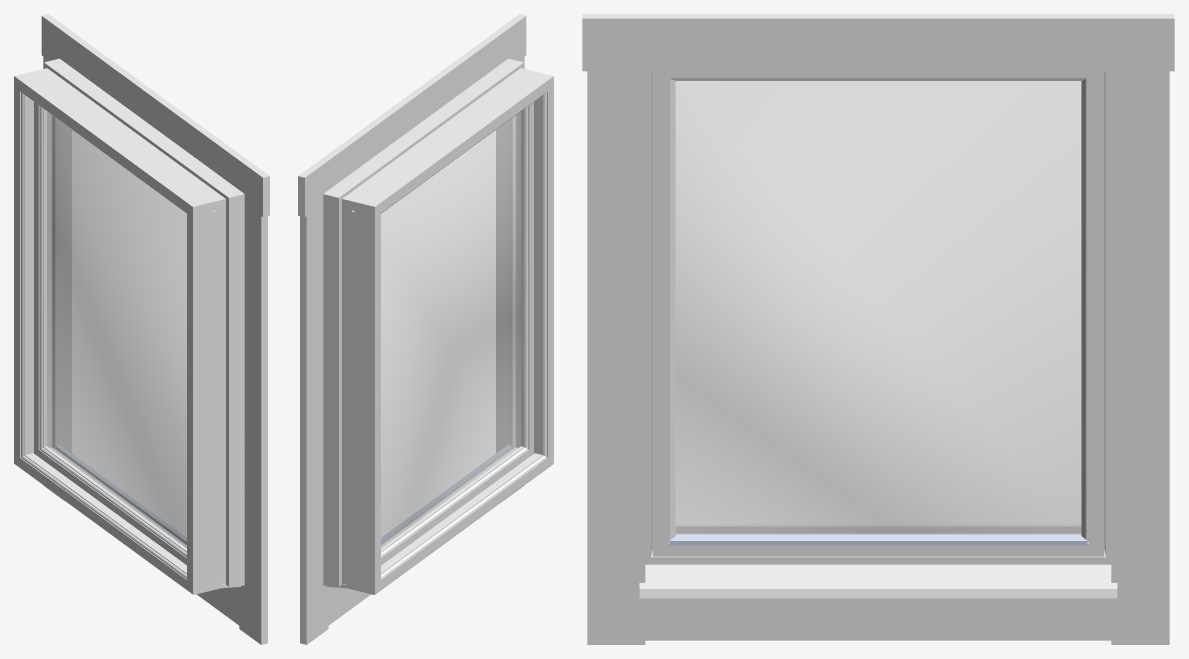
The picture shows the model from 3 angles, left to right: view 1: azimuth 30°, elevation 25°; view 2: azimuth 150°, elevation 25°; view 3: azimuth 270°, elevation 25°; orthographic projection. The views are drawn at different scales.
Parts seen in each view (by area): view 1: Glas polarfönster_WEB-1 - Part_clonedChild, Glas polarfönster_WEB-1 - Part, Karmdel stående_WEB-1 - Part, Fönsterfoder_WEB-2 - Part, Fönsterfoder_WEB-1 - Part, Karmdel Överliggare_WEB-1 - Part, Stående Fönsterbåge_WEB-2 - Part, Påsalning yttersida_WEB-5 - Part, Karmdel stående_WEB-2 - Part, Karmdel Nederdel_WEB-1 - Part, Påsalning yttersida_WEB-4 - Part, Fänsterbåge nederdel_WEB-1 - Part (+4 smaller); view 2: Glas polarfönster_WEB-1 - Part_clonedChild, Glas polarfönster_WEB-1 - Part, Karmdel stående_WEB-2 - Part, Fönsterfoder_WEB-3 - Part, Fönsterfoder_WEB-1 - Part, Karmdel Överliggare_WEB-1 - Part, Stående Fönsterbåge_WEB-1 - Part, Påsalning yttersida_WEB-6 - Part, Karmdel stående_WEB-1 - Part, Karmdel Nederdel_WEB-1 - Part, Påsalning yttersida_WEB-4 - Part, Fänsterbåge nederdel_WEB-1 - Part (+4 smaller); view 3: Glas polarfönster_WEB-2 - Part_clonedChild, Glas polarfönster_WEB-2 - Part, Fönsterfoder_WEB-1 - Part, Fönsterfoder_WEB-3 - Part, Fönsterfoder_WEB-2 - Part, Fönsterfoder_WEB-4 - Part, Fönsterbläck_WEB-1 - Part, Stående Fönsterbåge_WEB-2 - Part, Stående Fönsterbåge_WEB-1 - Part, Fänsterbåge nederdel_WEB-1 - Part, Dropplist fönster_WEB-1 - Part, Fänsterbåge överliggare_WEB-1 - Part (+3 smaller).
Boxes of the visible parts, left/top/right/bottom form: Glas polarfönster_WEB-1 - Part_clonedChild: left=47, top=112, right=186, bottom=547; Glas polarfönster_WEB-1 - Part: left=47, top=112, right=186, bottom=547; Karmdel stående_WEB-1 - Part: left=187, top=209, right=225, bottom=588; Fönsterfoder_WEB-2 - Part: left=239, top=204, right=267, bottom=644; Fönsterfoder_WEB-1 - Part: left=41, top=14, right=269, bottom=216; Karmdel Överliggare_WEB-1 - Part: left=14, top=68, right=225, bottom=216; Stående Fönsterbåge_WEB-2 - Part: left=34, top=102, right=57, bottom=456; Påsalning yttersida_WEB-5 - Part: left=223, top=190, right=244, bottom=586; Karmdel stående_WEB-2 - Part: left=14, top=86, right=33, bottom=462; Karmdel Nederdel_WEB-1 - Part: left=14, top=453, right=225, bottom=594; Påsalning yttersida_WEB-4 - Part: left=49, top=62, right=238, bottom=196; Fänsterbåge nederdel_WEB-1 - Part: left=38, top=446, right=186, bottom=564; Glas polarfönster_WEB-1 - Part_clonedChild: left=381, top=112, right=520, bottom=547; Glas polarfönster_WEB-1 - Part: left=381, top=112, right=520, bottom=547; Karmdel stående_WEB-2 - Part: left=342, top=209, right=380, bottom=588; Fönsterfoder_WEB-3 - Part: left=300, top=204, right=328, bottom=644; Fönsterfoder_WEB-1 - Part: left=298, top=14, right=526, bottom=216; Karmdel Överliggare_WEB-1 - Part: left=342, top=68, right=553, bottom=216; Stående Fönsterbåge_WEB-1 - Part: left=510, top=102, right=533, bottom=456; Påsalning yttersida_WEB-6 - Part: left=323, top=190, right=344, bottom=586; Karmdel stående_WEB-1 - Part: left=534, top=86, right=553, bottom=462; Karmdel Nederdel_WEB-1 - Part: left=342, top=453, right=553, bottom=594; Påsalning yttersida_WEB-4 - Part: left=329, top=62, right=518, bottom=196; Fänsterbåge nederdel_WEB-1 - Part: left=381, top=446, right=529, bottom=564; Glas polarfönster_WEB-2 - Part_clonedChild: left=676, top=81, right=1080, bottom=533; Glas polarfönster_WEB-2 - Part: left=676, top=81, right=1080, bottom=533; Fönsterfoder_WEB-1 - Part: left=582, top=14, right=1174, bottom=71; Fönsterfoder_WEB-3 - Part: left=1111, top=71, right=1169, bottom=644; Fönsterfoder_WEB-2 - Part: left=587, top=71, right=645, bottom=644; Fönsterfoder_WEB-4 - Part: left=645, top=598, right=1111, bottom=640; Fönsterbläck_WEB-1 - Part: left=639, top=563, right=1117, bottom=598; Stående Fönsterbåge_WEB-2 - Part: left=1081, top=71, right=1104, bottom=556; Stående Fönsterbåge_WEB-1 - Part: left=652, top=71, right=675, bottom=556; Fänsterbåge nederdel_WEB-1 - Part: left=668, top=525, right=1088, bottom=556; Dropplist fönster_WEB-1 - Part: left=669, top=534, right=1087, bottom=545; Fänsterbåge överliggare_WEB-1 - Part: left=668, top=71, right=1088, bottom=80.
Size of the model in its own units: 0.1871 by 1.42 by 1.22.
Materials: 19 (15 with a texture image).
